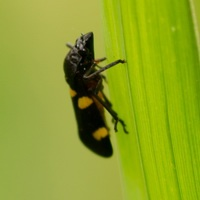insect: (64, 32, 127, 156)
